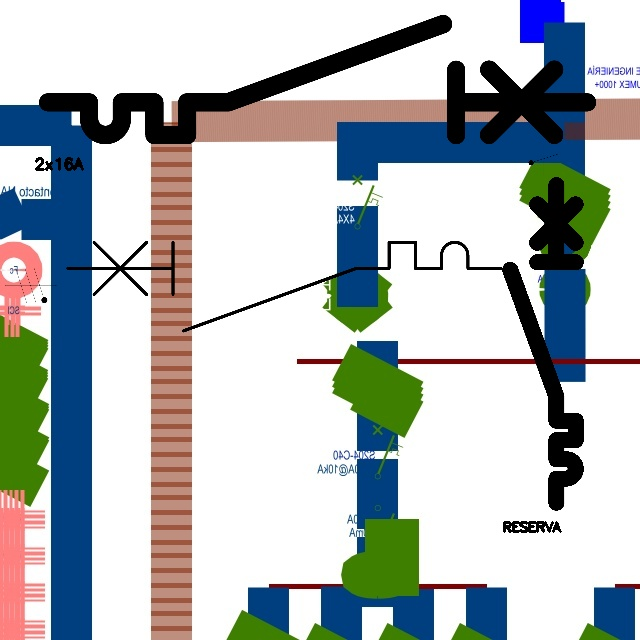interruptor_termomagnetico: (34, 10, 601, 149), (56, 231, 511, 342), (502, 176, 584, 510)
